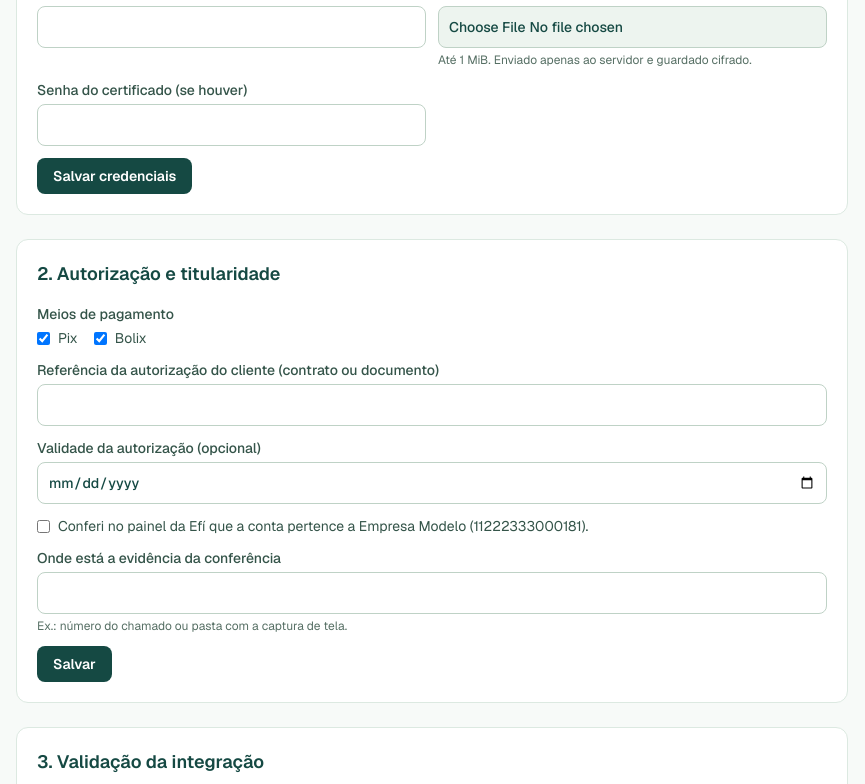
Test: reloads and explains a revision conflict
(page scrolled)
In the field labelled "Referência da autorização do cliente (contrato ou documento)": (432, 405) [37,384,827,426], type "contrato-1"
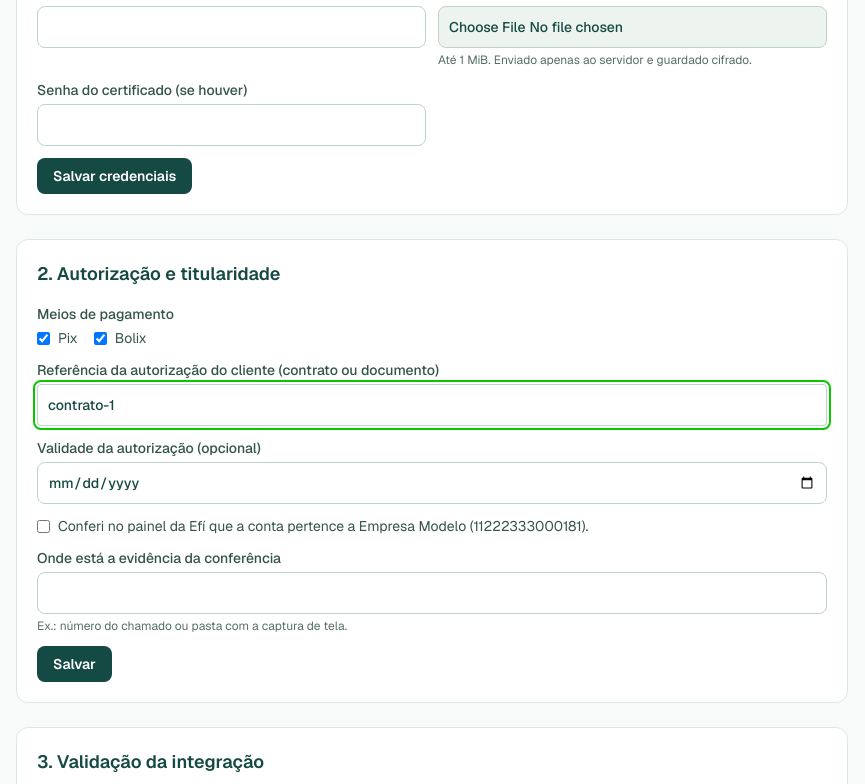
Click the button "Salvar": (74, 664) [37,646,112,682]
(page scrolled)
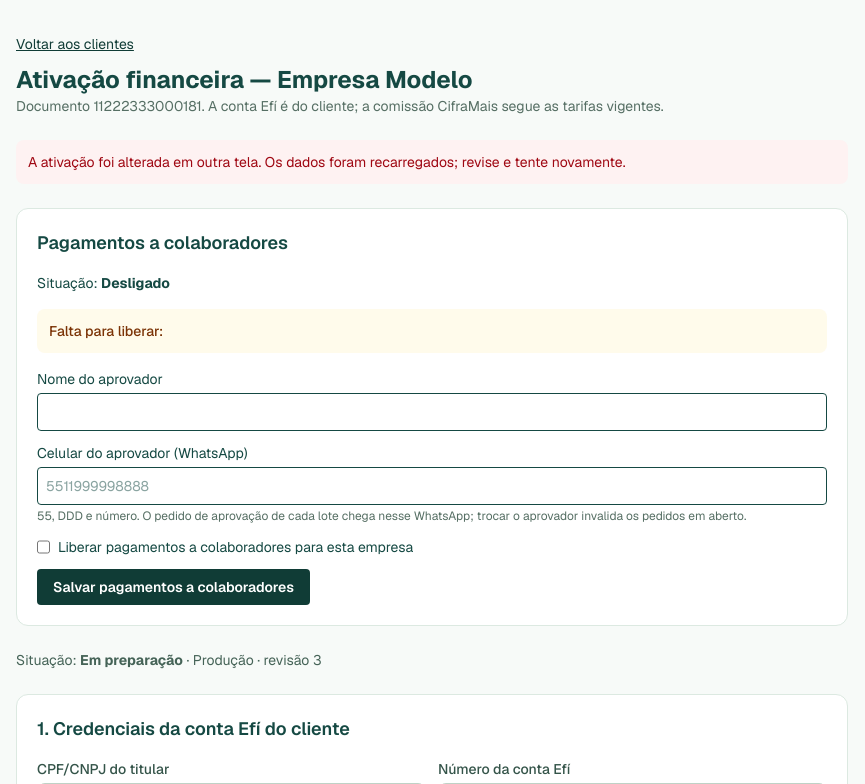
Result: the message shows "alterada em outra tela" at [28,153,626,171]
